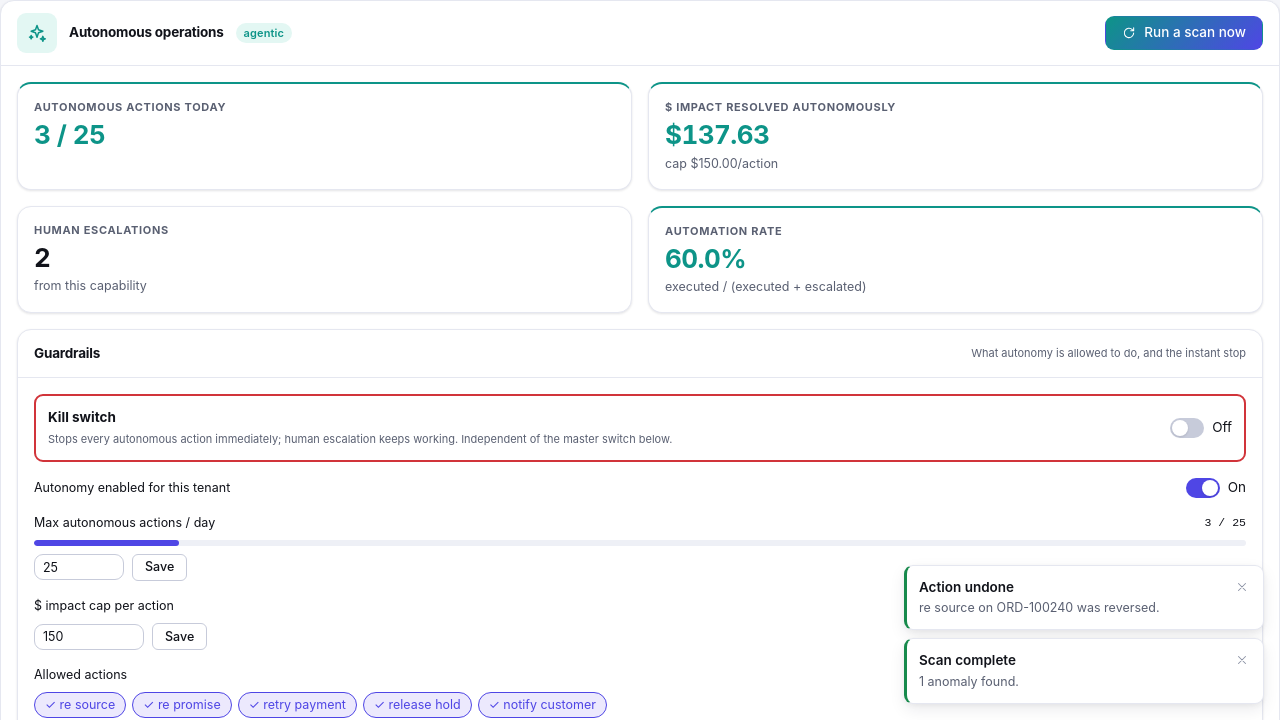
Test: Agentic Control Tower › the kill switch asks for confirmation and, once engaged, shows as engaged
The width and height of the screenshot is (1280, 720).
Expected: the text "Autonomous operations" is shown, [69, 24, 224, 40]
What coordinates should you click on to do the following:
click the switch labelled "Off"
I would click on:
 (1201, 428)
Its box is [1170, 418, 1232, 438].
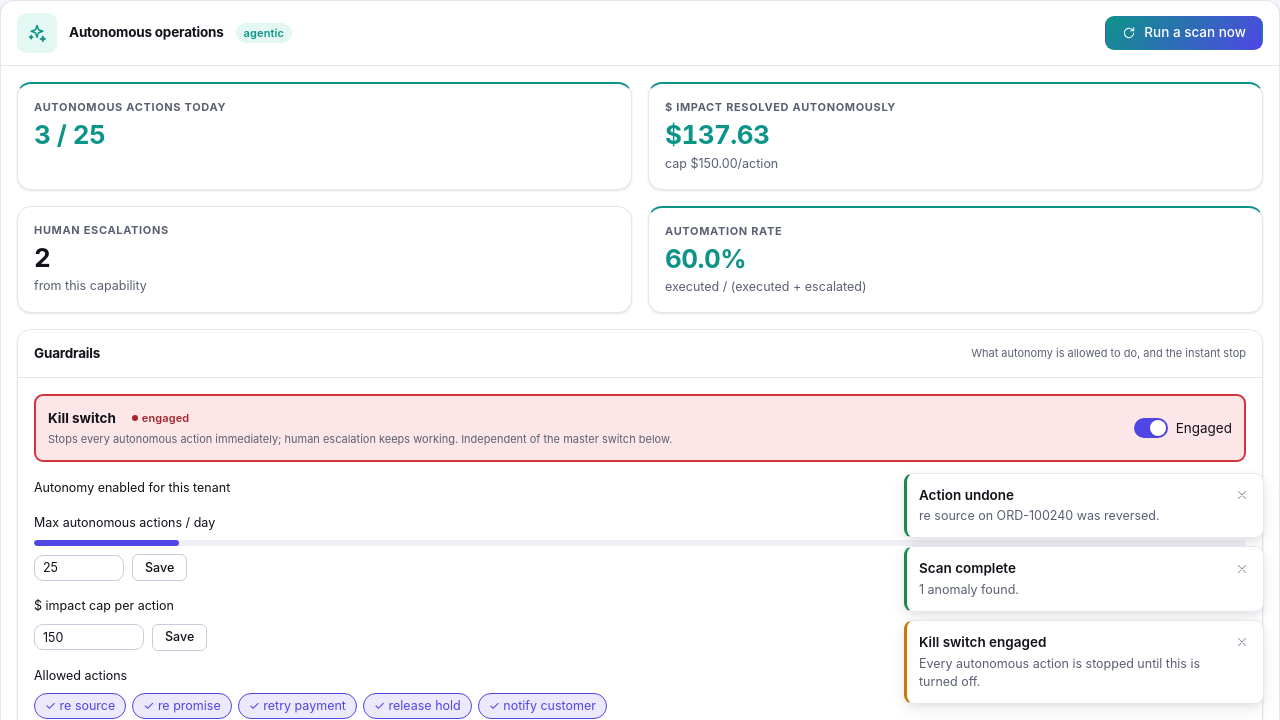
Expected: the text "engaged" is shown, [124, 408, 197, 428]
